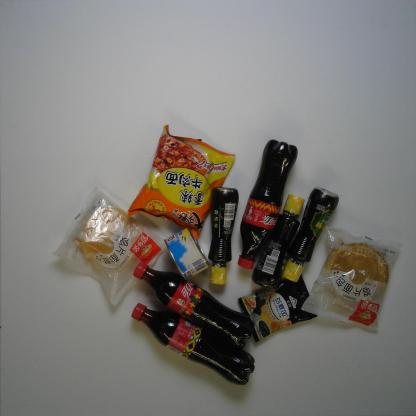Canned Food: (164, 224, 210, 280)
Dessert: (47, 185, 172, 318), (299, 220, 405, 335)
Drink: (124, 300, 258, 390), (129, 259, 258, 350), (237, 136, 298, 269)
Instant Drink: (234, 275, 320, 344)
Instant Noodles: (126, 123, 236, 240)
Seasoner: (281, 179, 341, 283), (250, 192, 306, 289), (205, 185, 239, 286)
